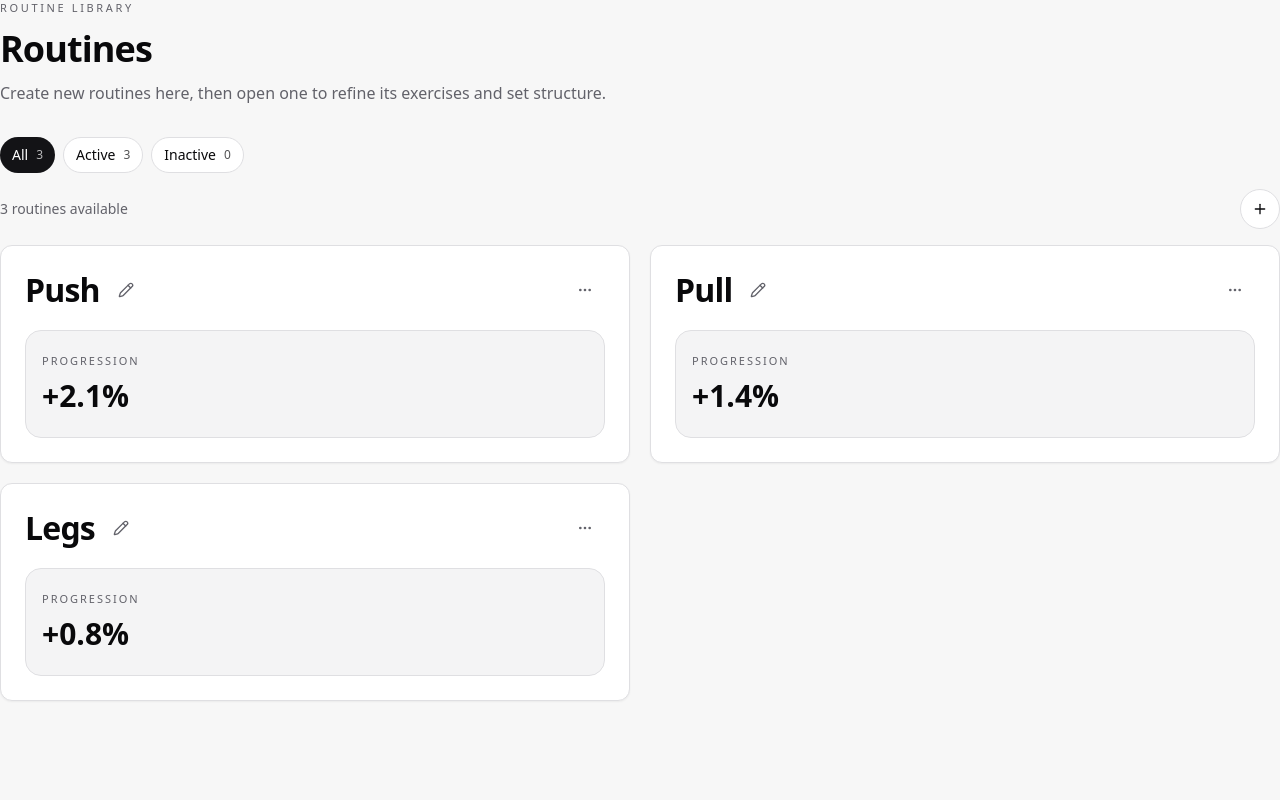
Test: RoutinesPage › deletes a routine from the index with the trash action
Expected: the heading "Push" is shown, [25,270,100,310]
Click the button named "more actions" in the row of "Push": (585, 290) [565,270,605,310]
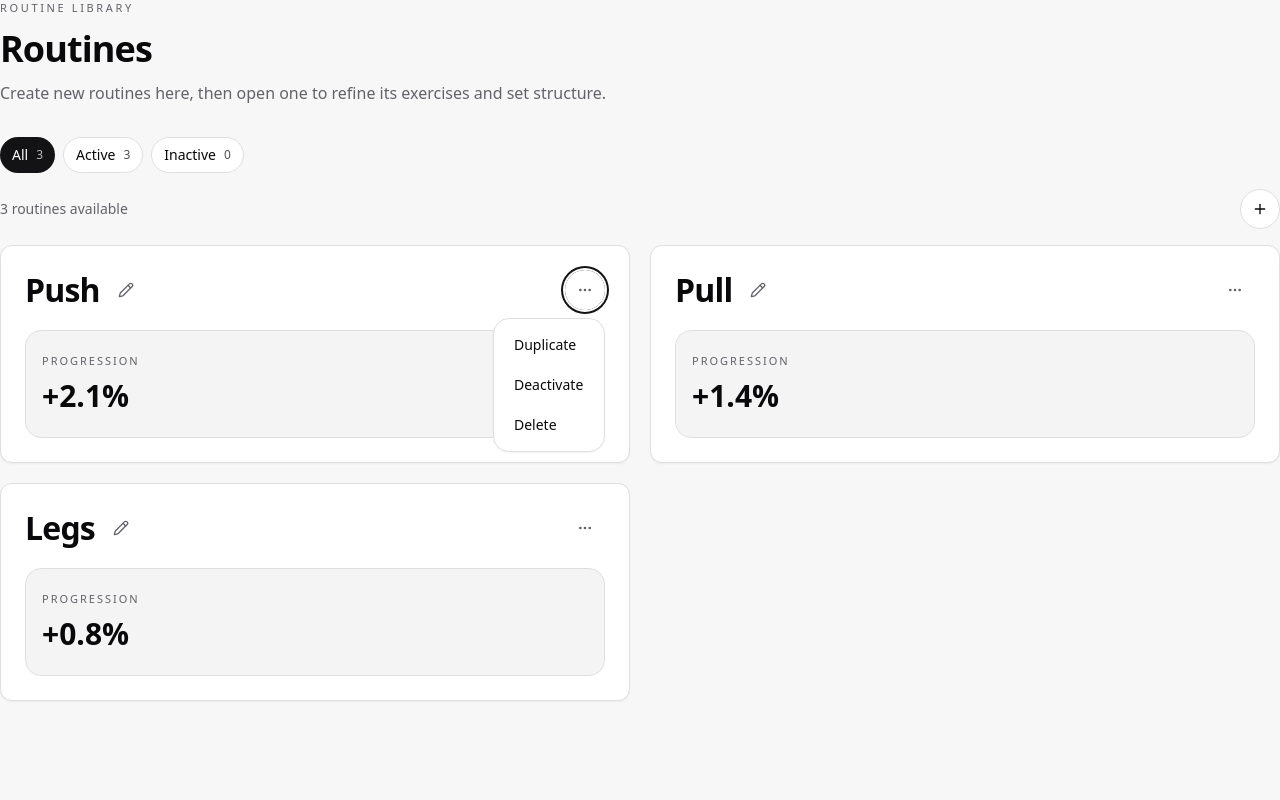
Click the menu item "Delete": (549, 424) [502,406,596,442]
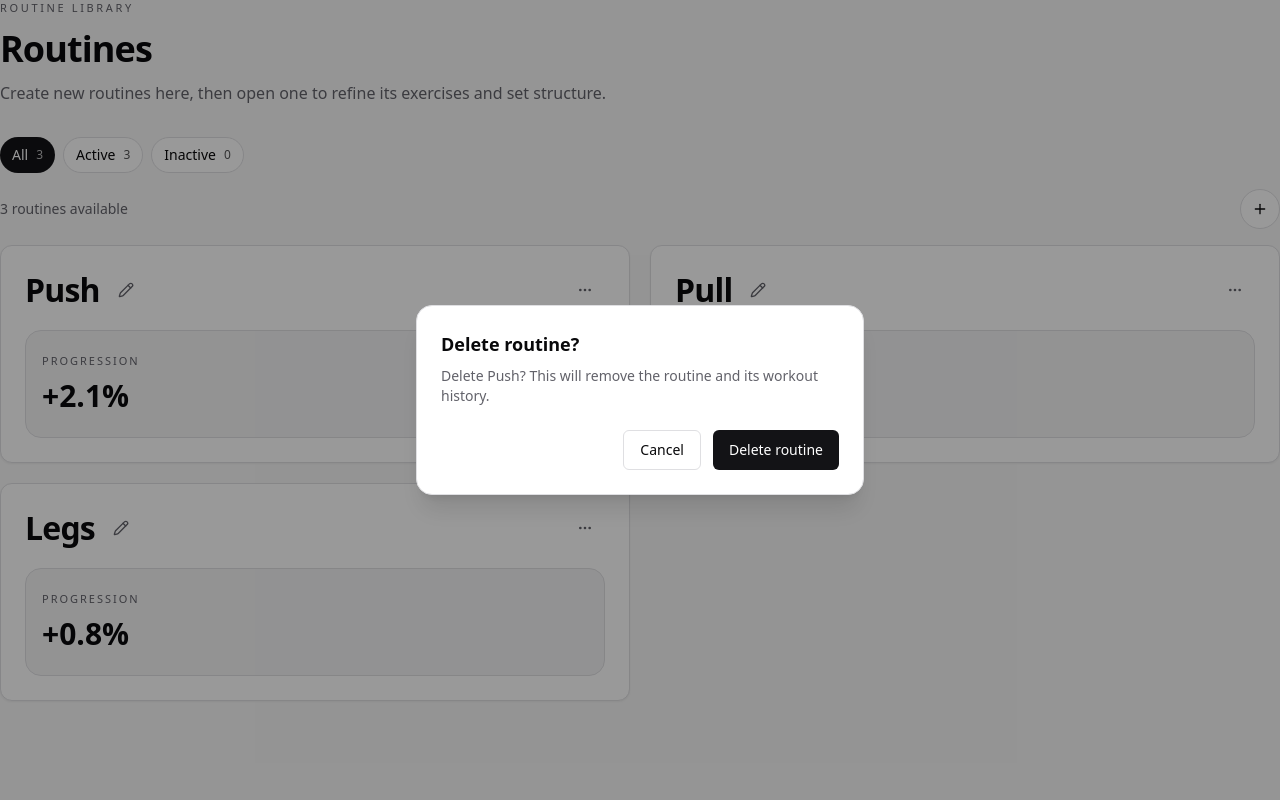
Expected: the heading "Delete routine?" is shown, [441,332,579,356]
Expected: the text "Delete Push? This will remove the routine and its workout history" is shown, [441,366,818,405]
Click the button "Delete routine": (776, 450) [713,430,839,470]
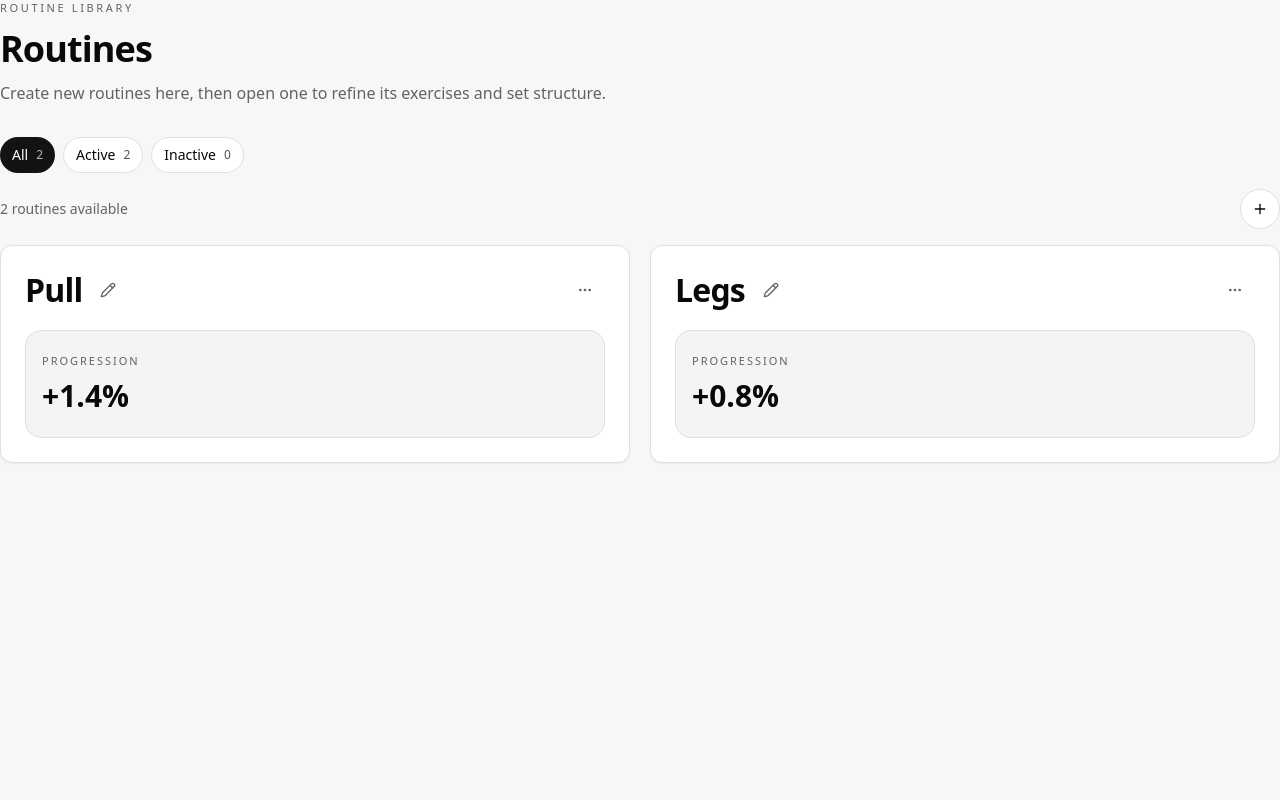
Expected: the heading "Pull" is shown, [25,270,82,310]
Expected: the heading "Push" is gone
Expected: the text "2 routines available" is shown, [0,198,128,218]
